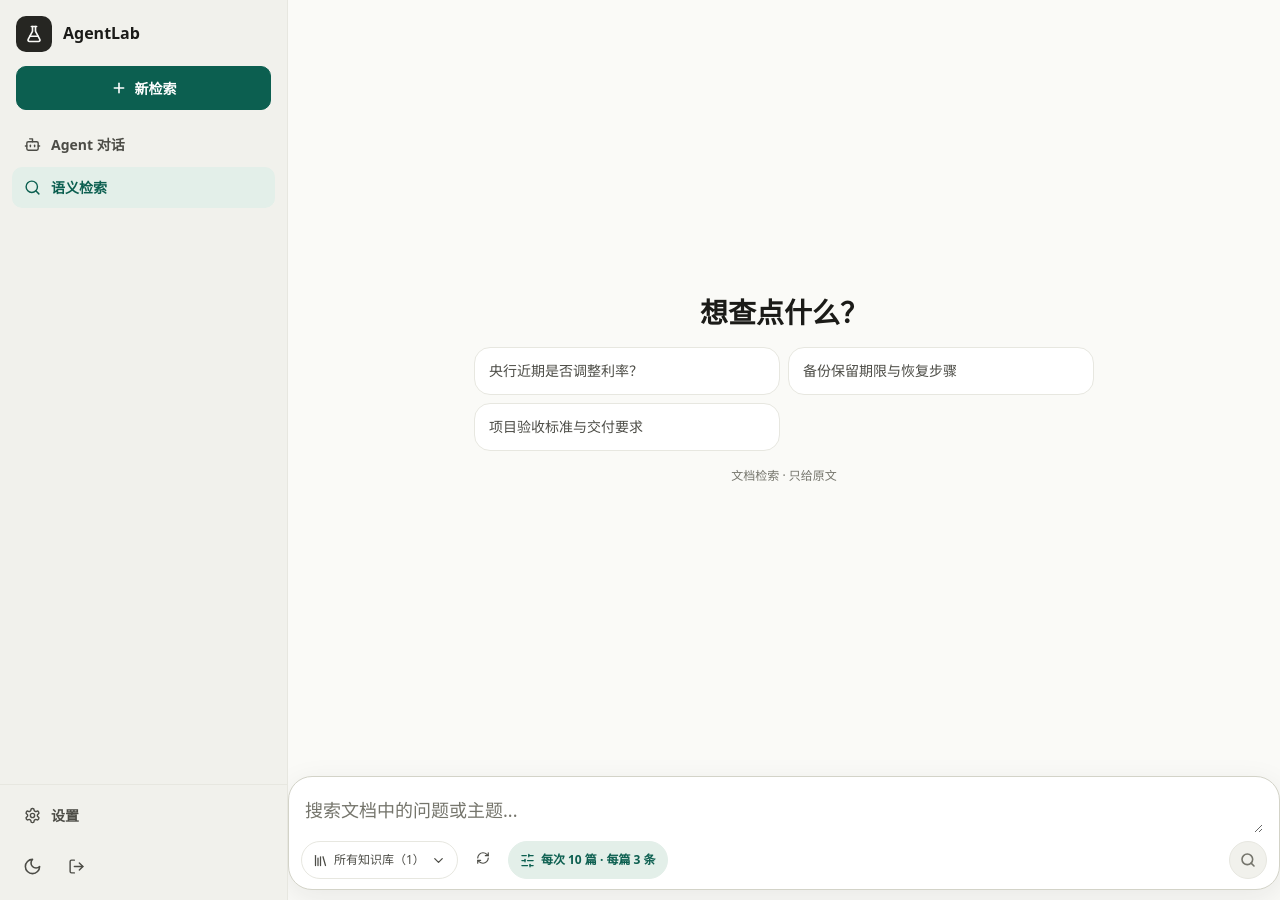
Test: SearchPage search stream › searches the grouped endpoint and shows the result as a record
This screenshot has width=1280, height=900.
expect the element with class "empty-state" is shown: met, box [474, 347, 1094, 486]
expect the heading "想查点什么？" is shown: met, box [700, 293, 868, 331]
In the text box with placeholder "搜索文档中的问题或主题...": x=784, y=811 [305, 789, 1263, 833], type "央行利率"
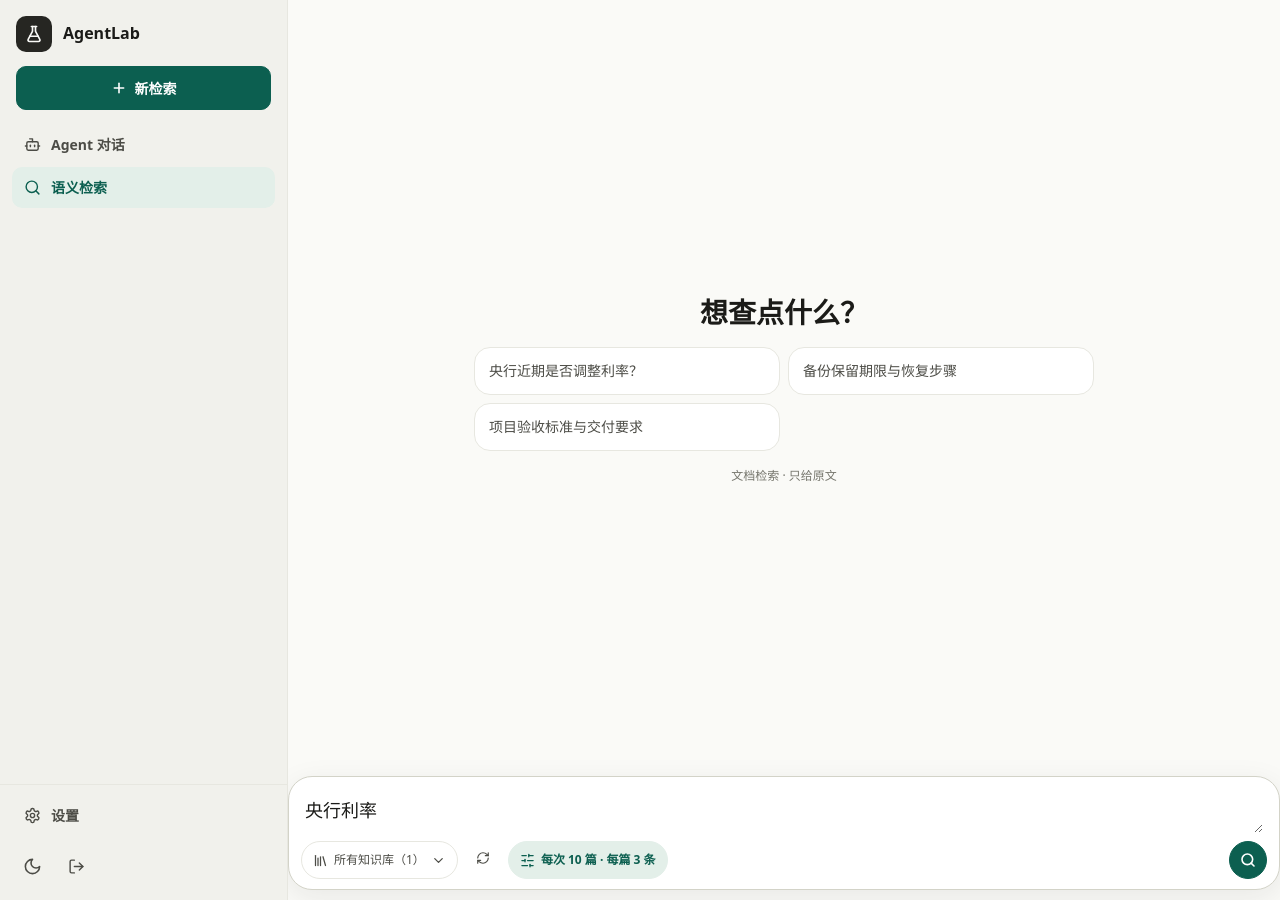
Submit the form, box [288, 776, 1279, 890]
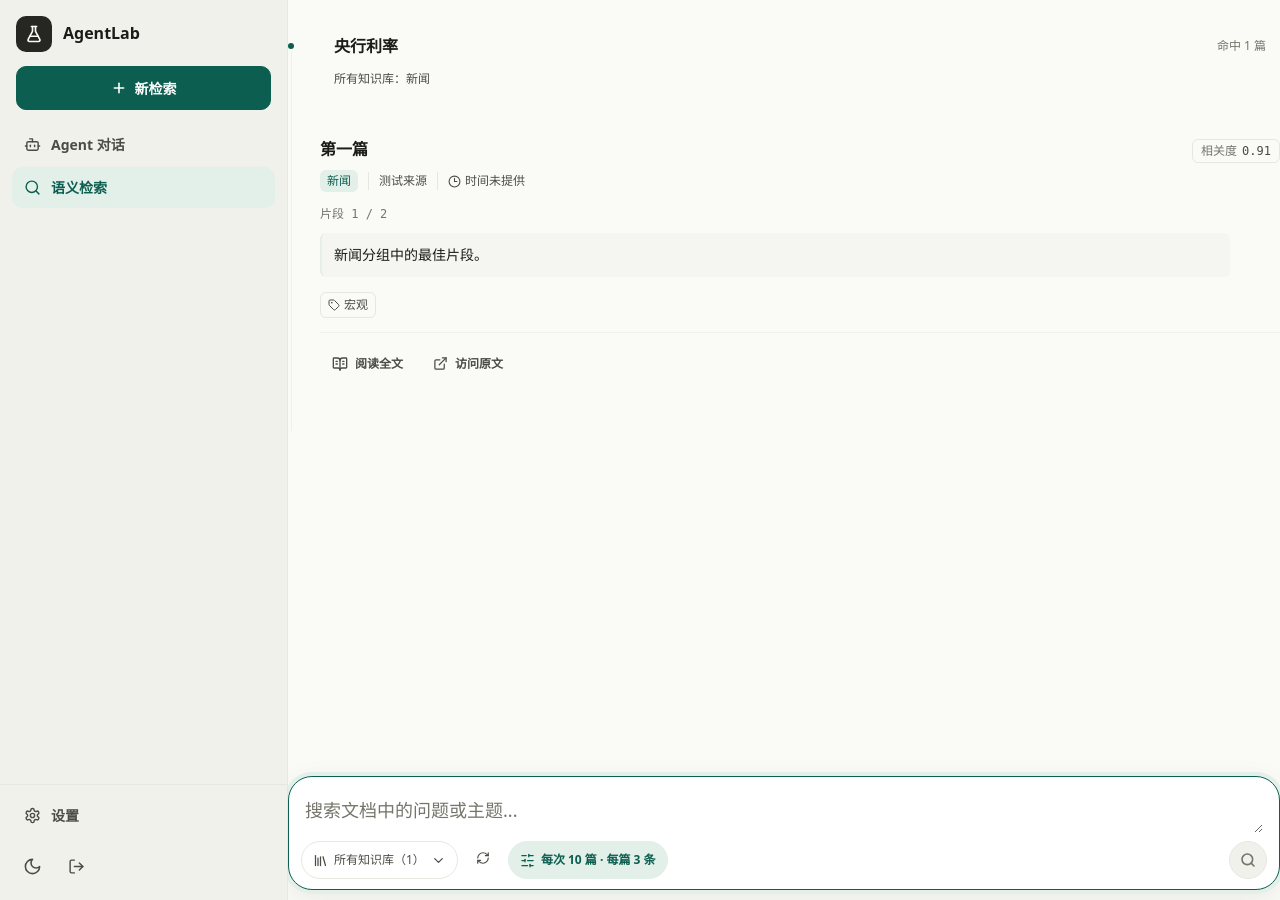
expect the number of elements with class "record" is 1: met, box [288, 24, 1279, 430]
expect the number of elements with class "result-card" is 1: met, box [320, 115, 1279, 406]
